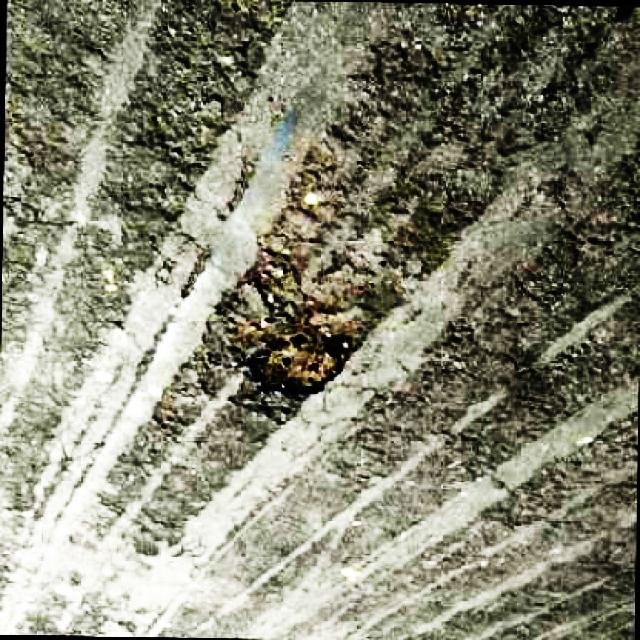pothole: (223, 280, 366, 414)
